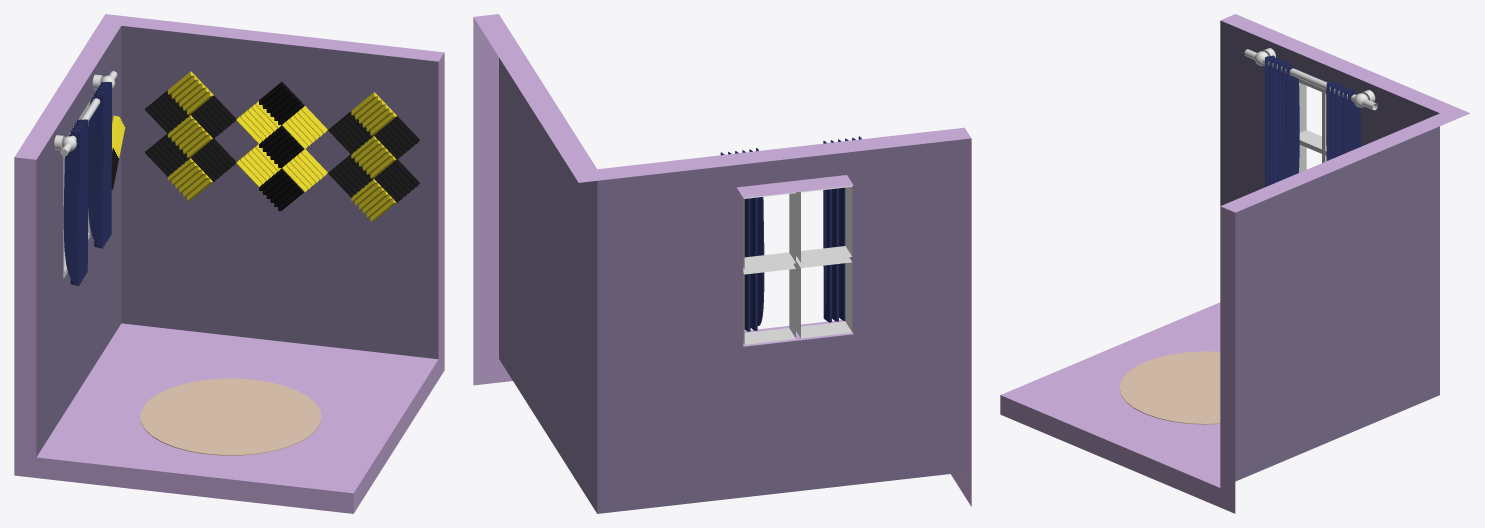
File: Room.gltf
3 renders of one model, left to right at view 1: azimuth 30°, elevation 25°; view 2: azimuth 150°, elevation 25°; view 3: azimuth 270°, elevation 25°, orthographic. The views are drawn at different scales.
Parts seen in each view (by area): view 1: Room; view 2: Room; view 3: Room.
Boxes of the visible parts, x1,y1,x2,y2 form: Room: [14, 14, 444, 513]; Room: [473, 14, 971, 513]; Room: [1000, 14, 1469, 513].
Size of the model in its own units: 13.08 by 9.25 by 13.08.
